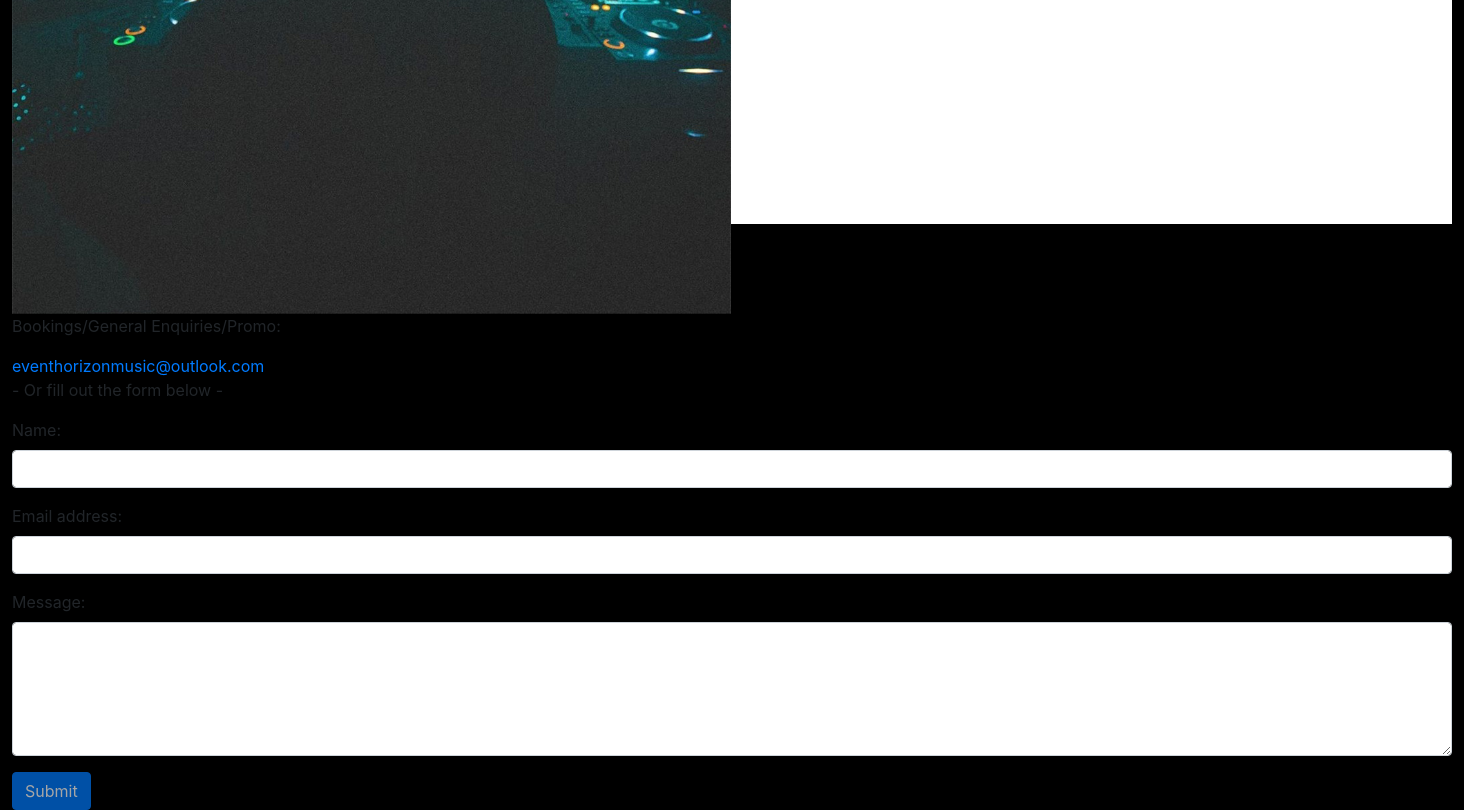
Test: Submit button NOT disabled when Name, Email Address and Message are all VALID
The image size is (1464, 810).
(page scrolled)
Type "Timan Noel" into the field with test id "name-input" at (732, 469), box [12,450,1452,488]
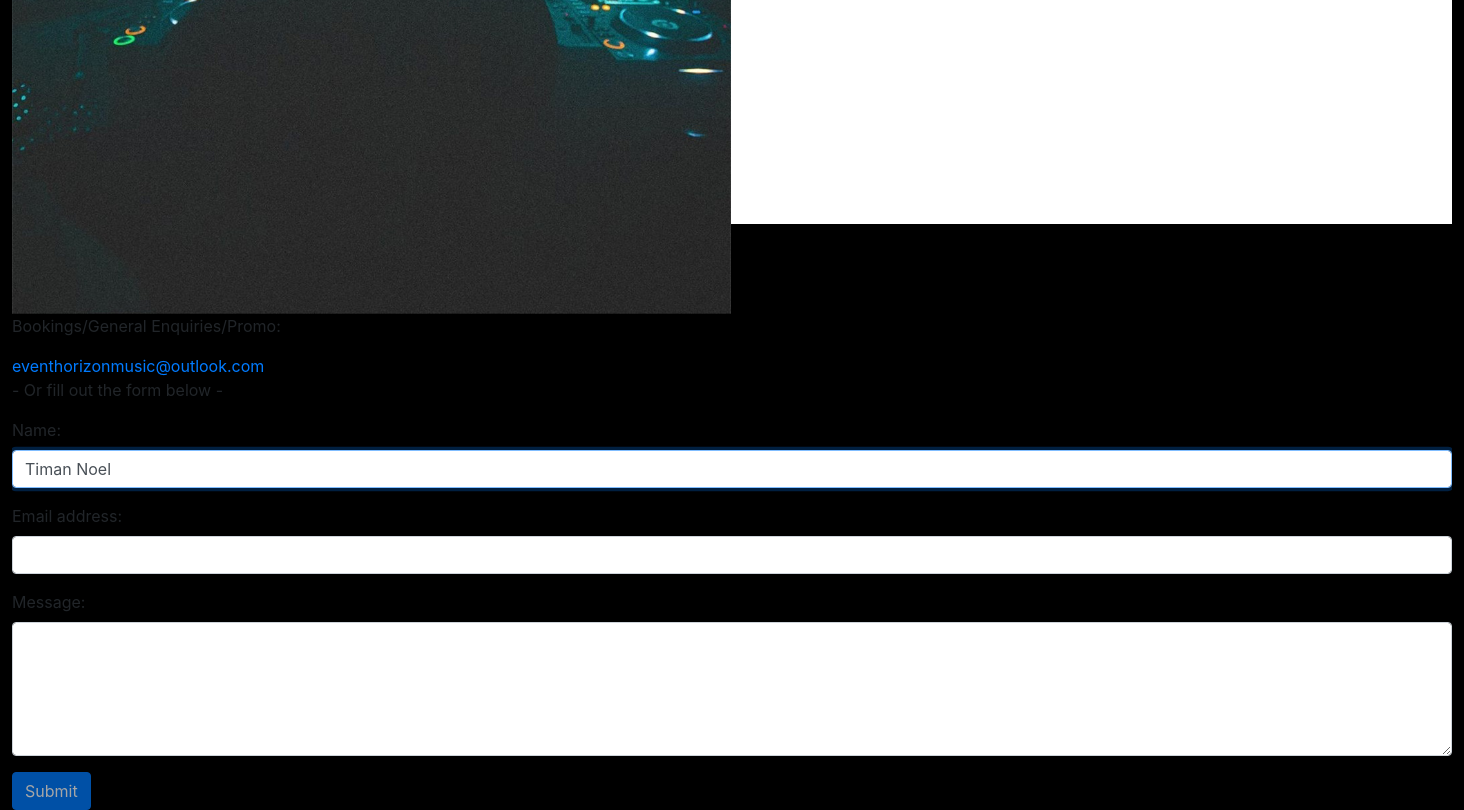
Type "tnoel7@msn.com" into the field with test id "email-address-input" at (732, 555), box [12,536,1452,574]
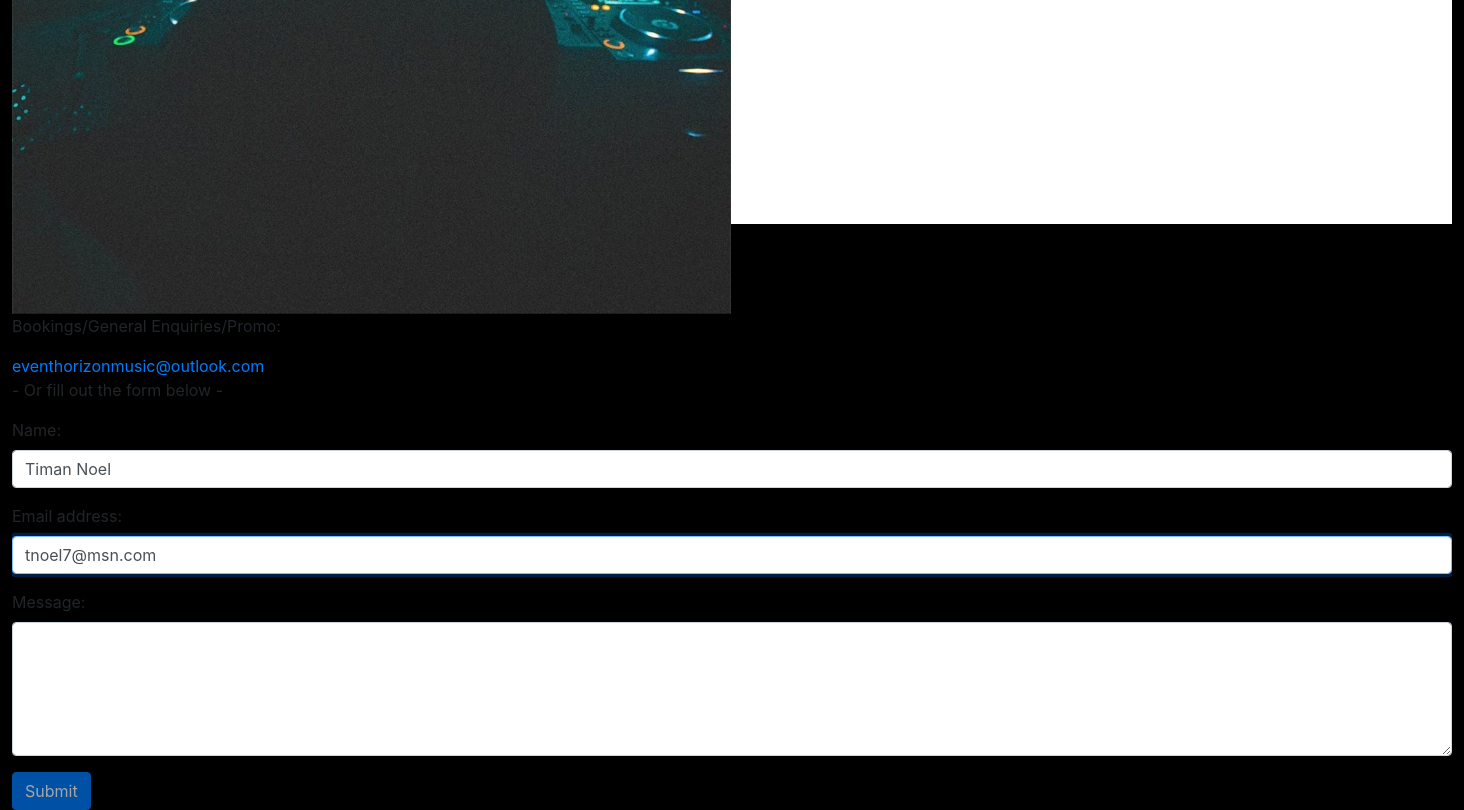
Type "Hello World" into the text box with test id "message-input" at (732, 689), box [12,622,1452,756]
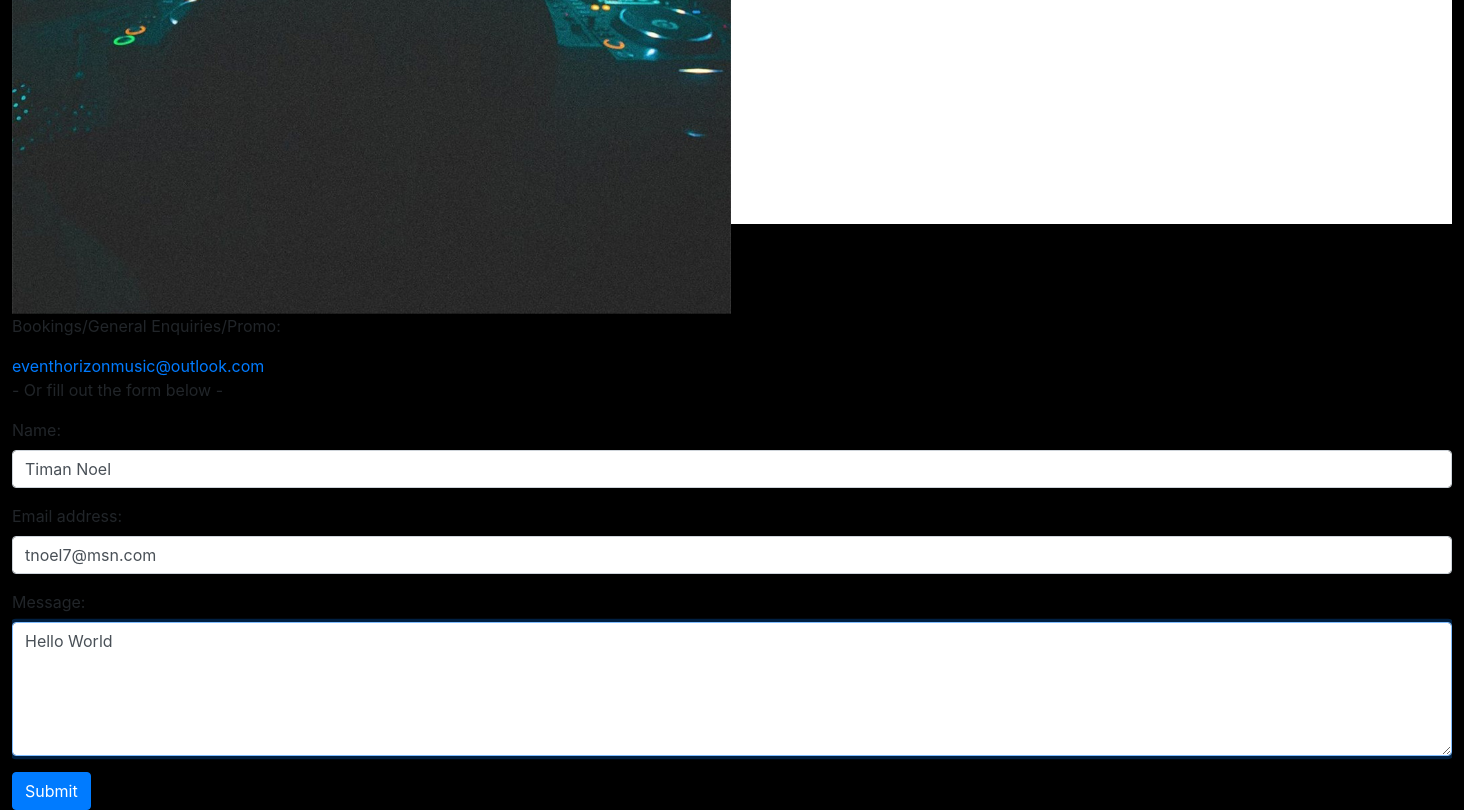
Check: the button "Submit" is enabled, box [12,772,91,809]
